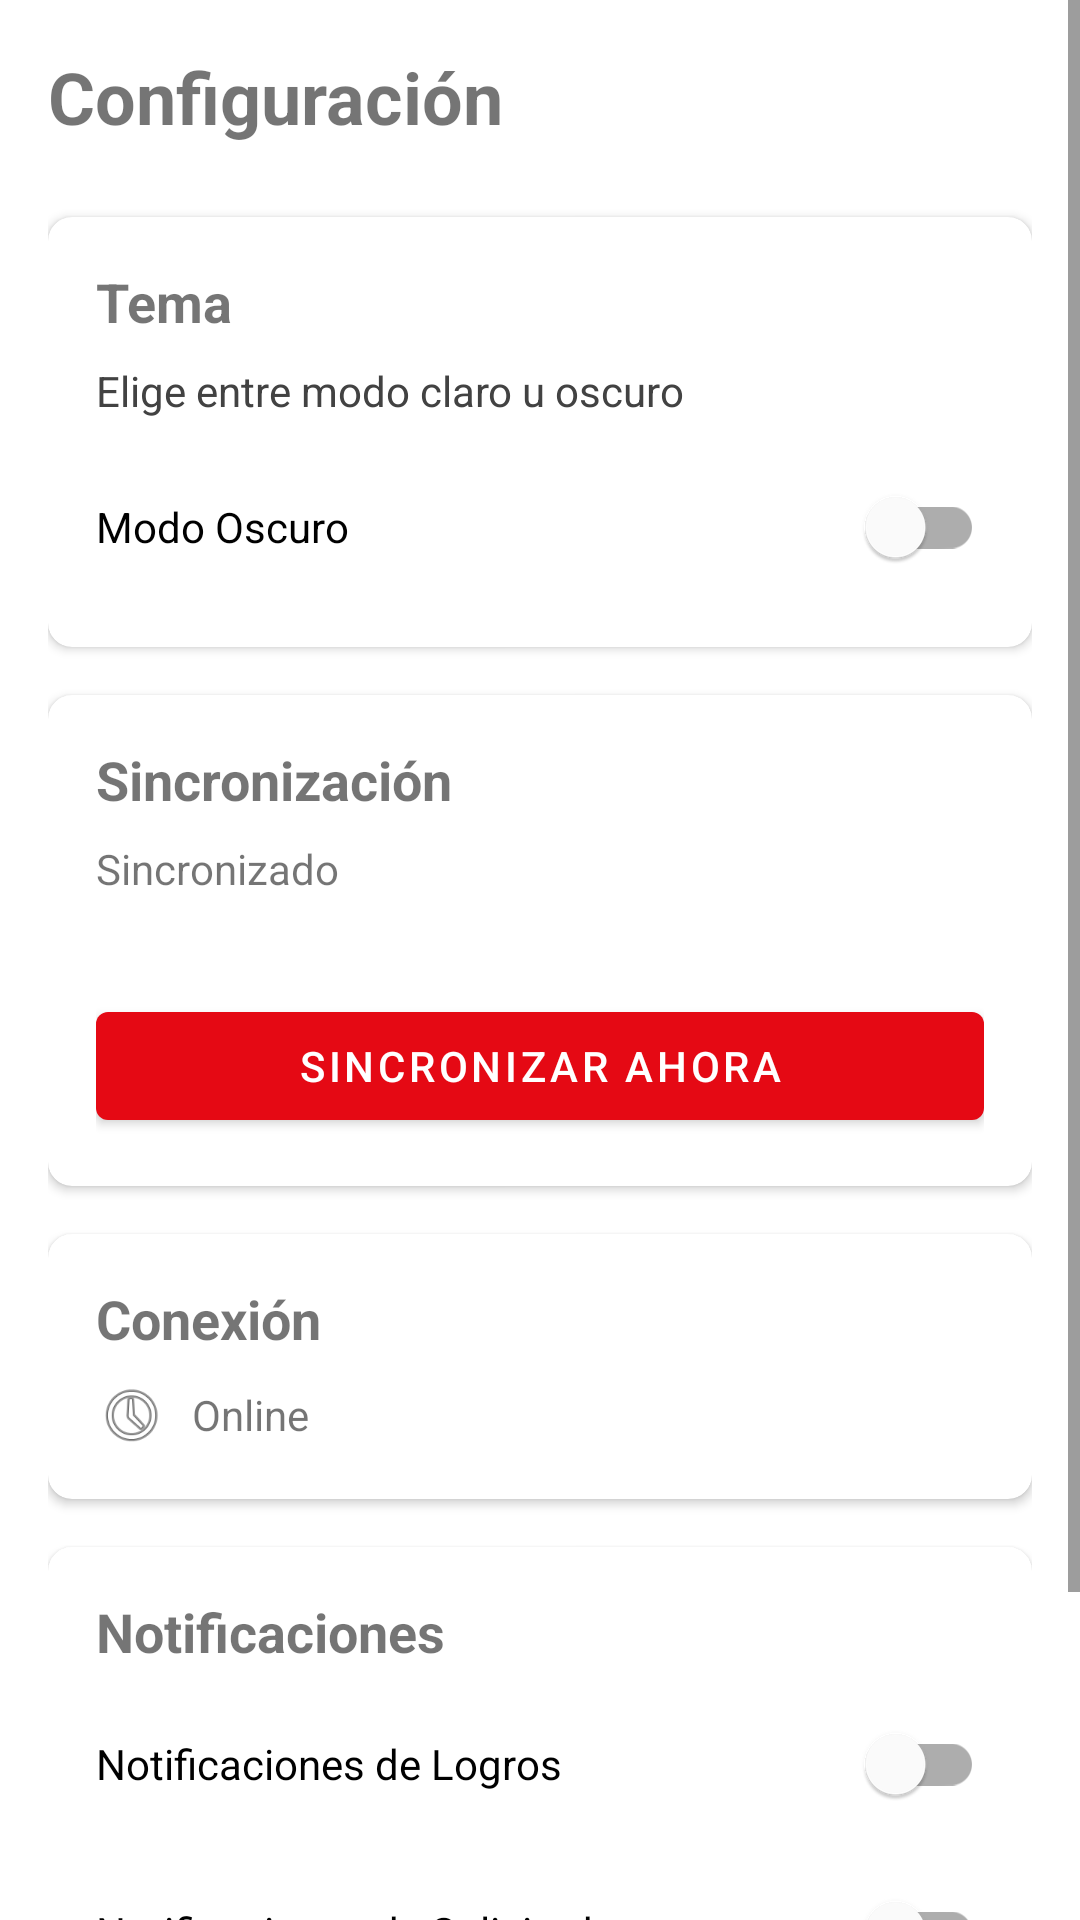

Point at icon controls on the screen. Image size 1080×1920, points as point (x, y).
recent history: point (131, 1415)
